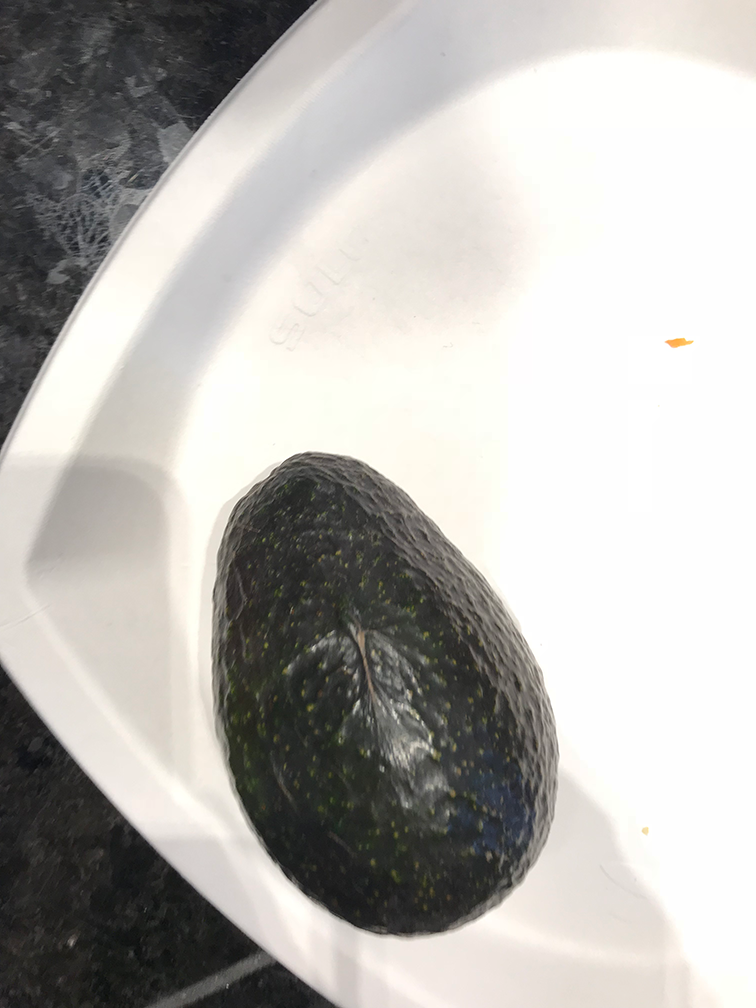avocado: (200, 432, 567, 943)
